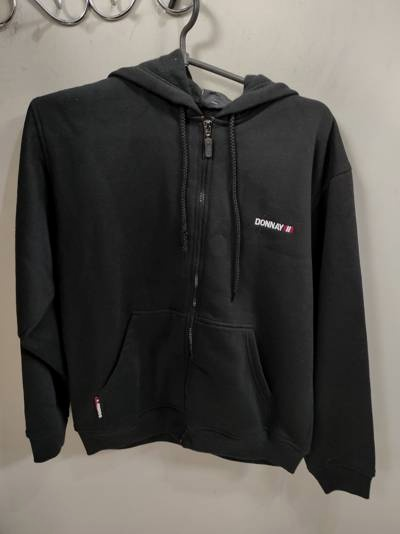Hoodie: (11, 47, 395, 521)
